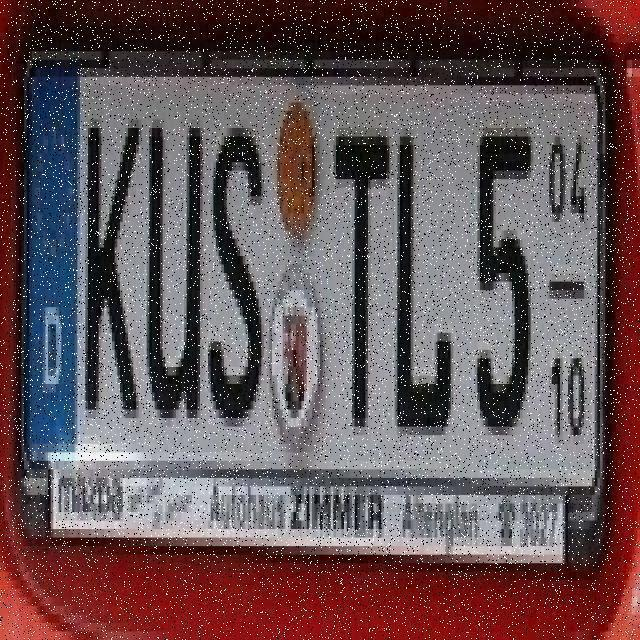license_plate: (24, 34, 612, 566)
